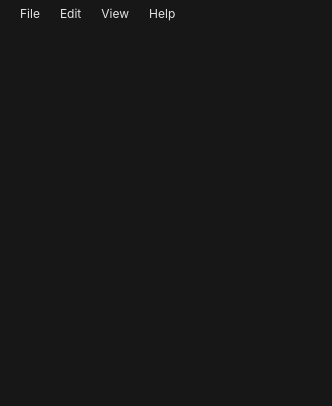
MenuBar › handles Undo/Redo disabled state
Click the button "Edit" at point(71, 14), box [52, 4, 89, 24]
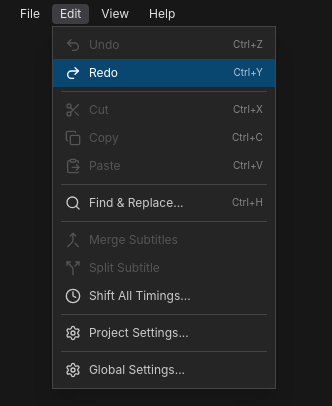
Now the menu item "Undo Ctrl+Z" is disabled, box [53, 31, 275, 59]
Now the menu item "Redo Ctrl+Y" is enabled, box [53, 59, 275, 87]
